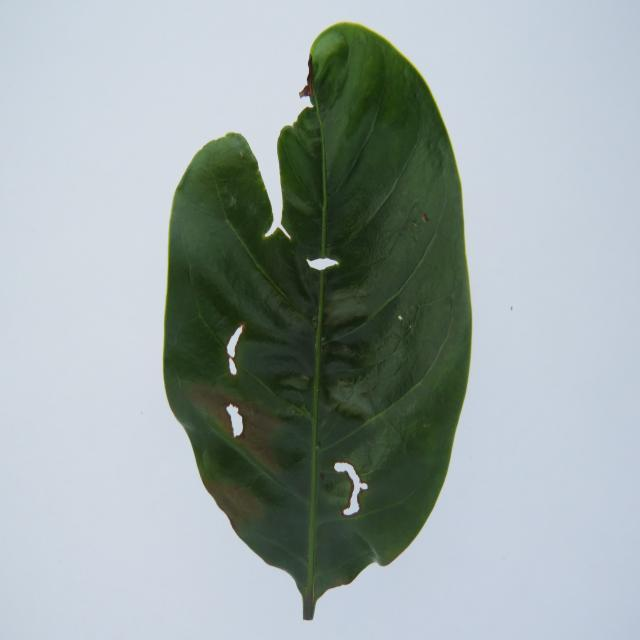DeficienciaNutricional-Boro: (164, 23, 471, 620)
